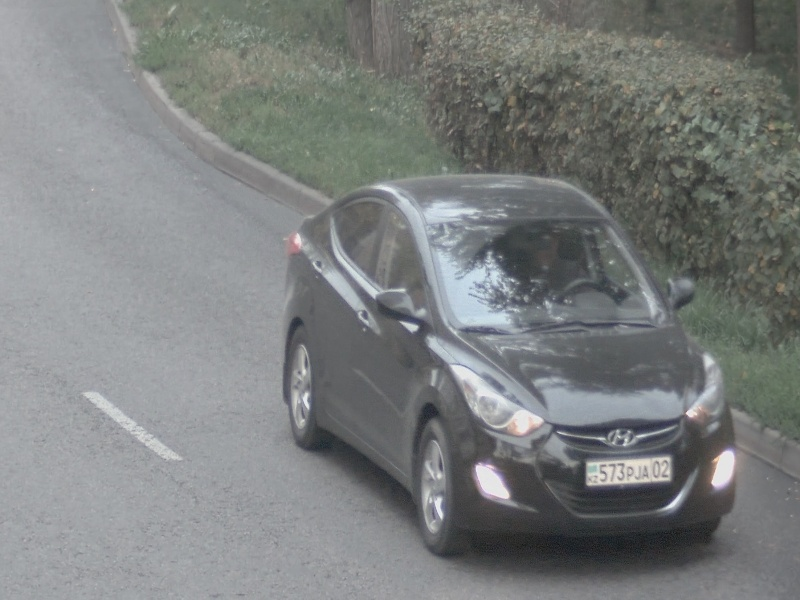plate: (583, 452, 674, 490)
